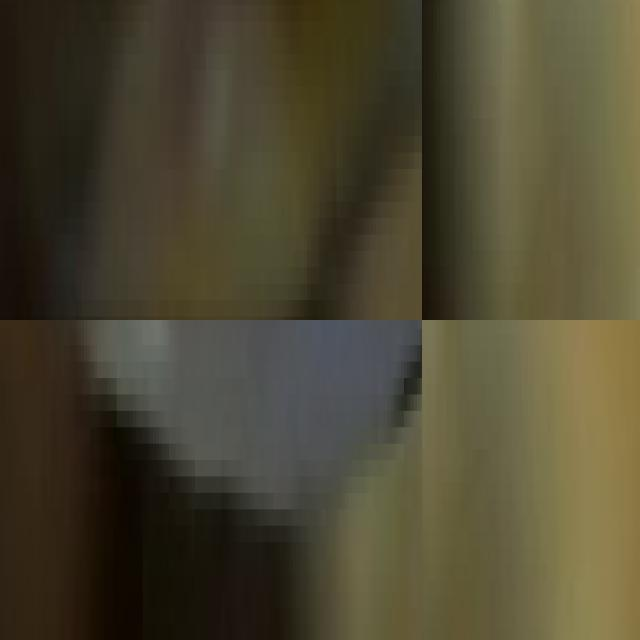fish: (0, 0, 422, 320), (18, 320, 422, 640)
